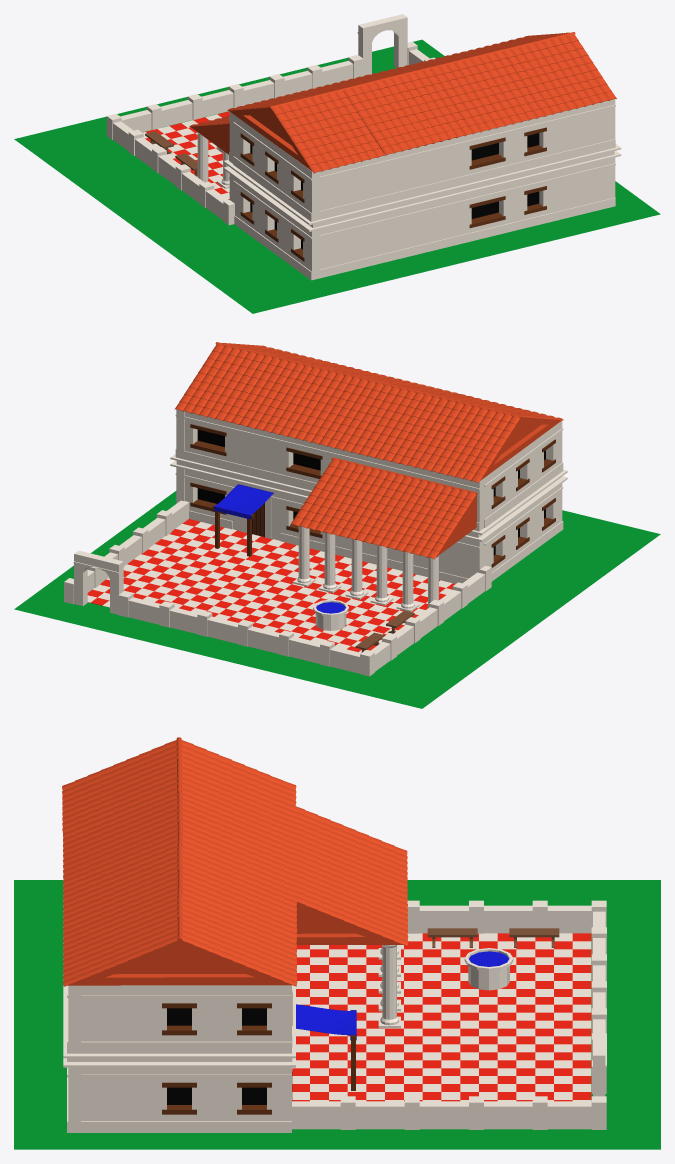
Rendered from Haus gebaut.fbx.
3 views of the same model, one above another, from view 1: azimuth 30°, elevation 25°; view 2: azimuth 150°, elevation 25°; view 3: azimuth 270°, elevation 25° (orthographic). The views are drawn at different scales.
Parts seen in each view (by area): view 1: Dach, Boden (Gras), Wand Normal .003, Wand Normal .001, Zaun, Plane.002, Boden.001, Dach mit Ziegeln, Säule 2.004; view 2: Dach, Boden (Gras), Boden.001, Wand Normal .003, Zaun, Wand Normal .001, Dach mit Ziegeln, Säule 2.004, Plane.002, Brunnen; view 3: Dach, Boden (Gras), Boden.001, Zaun, Wand Normal .001, Wand Normal .003, Dach mit Ziegeln, Plane.002, Säule 2.004, Brunnen.
Part boxes in pixels (x1,y1,x2,y2): Dach: (227,32,616,173); Boden (Gras): (14,39,660,313); Wand Normal .003: (229,99,615,221); Wand Normal .001: (229,157,615,280); Zaun: (106,14,435,225); Plane.002: (223,144,621,231); Boden.001: (142,111,229,199); Dach mit Ziegeln: (189,116,229,154); Säule 2.004: (197,132,229,188); Dach: (174,342,563,482); Boden (Gras): (14,491,660,708); Boden.001: (87,519,455,652); Wand Normal .003: (175,409,563,531); Zaun: (64,500,491,676); Wand Normal .001: (175,467,563,583); Dach mit Ziegeln: (290,457,477,559); Säule 2.004: (293,526,439,611); Plane.002: (170,454,567,541); Brunnen: (313,599,348,630); Dach: (62,737,297,986); Boden (Gras): (14,880,660,1149); Boden.001: (292,933,591,1101); Zaun: (292,900,606,1129); Wand Normal .001: (67,1004,356,1132); Wand Normal .003: (67,985,292,1053); Dach mit Ziegeln: (295,806,408,946); Plane.002: (63,864,295,1067); Säule 2.004: (378,945,400,1028); Brunnen: (464,948,513,990).
Size of the model in its own units: 5108 by 1721 by 5174.
